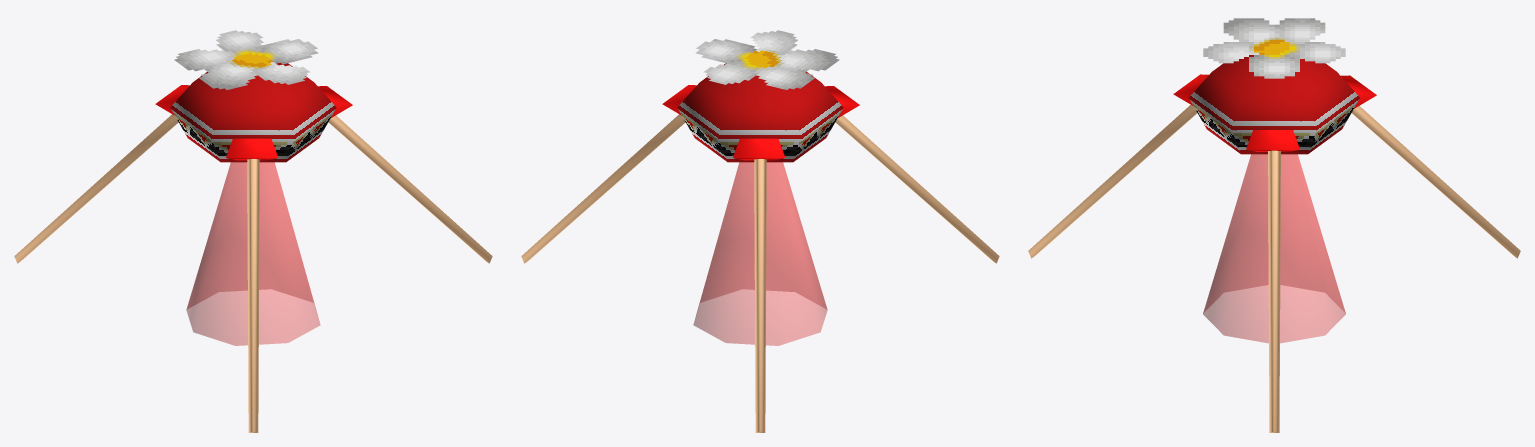
The model's file is redonion.fbx.
3 views of the same model, side by side, from view 1: azimuth 30°, elevation 25°; view 2: azimuth 150°, elevation 25°; view 3: azimuth 270°, elevation 25° (orthographic). The views are drawn at different scales.
Parts seen in each view (by area): view 1: Onion; view 2: Onion; view 3: Onion.
Boxes of the visible parts, <box> form: Onion: <box>14,30,492,432</box>; Onion: <box>521,30,999,432</box>; Onion: <box>1028,18,1520,432</box>.
Size of the model in its own units: 21.2 by 14.61 by 24.42.
Materials: 5 (2 with a texture image).
